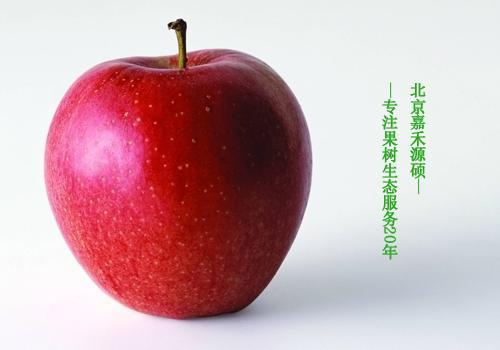apple: (44, 18, 312, 321)
